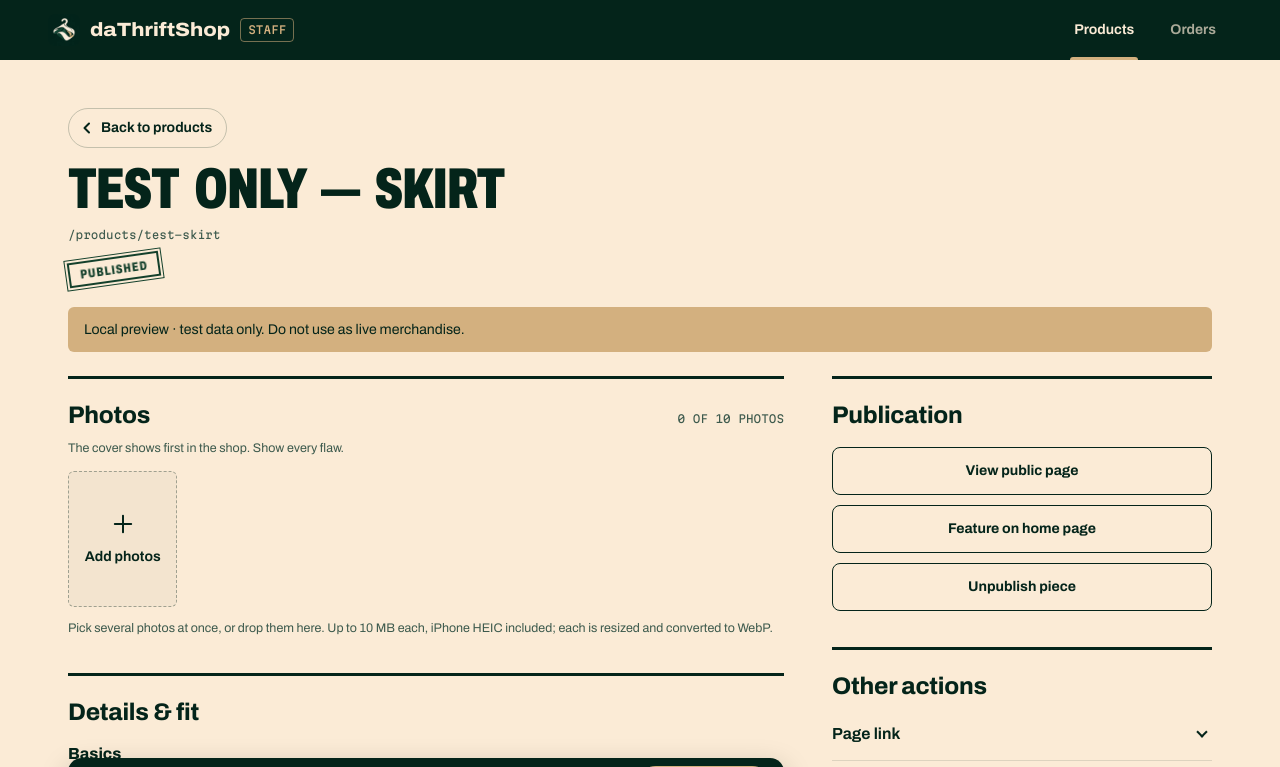
Test: features a published piece on the home page and removes it again
What coordinates should you click on to do the following:
click the button "Feature on home page"
I would click on:
 (1022, 529)
Its box is x1=832 y1=505 x2=1212 y2=553.
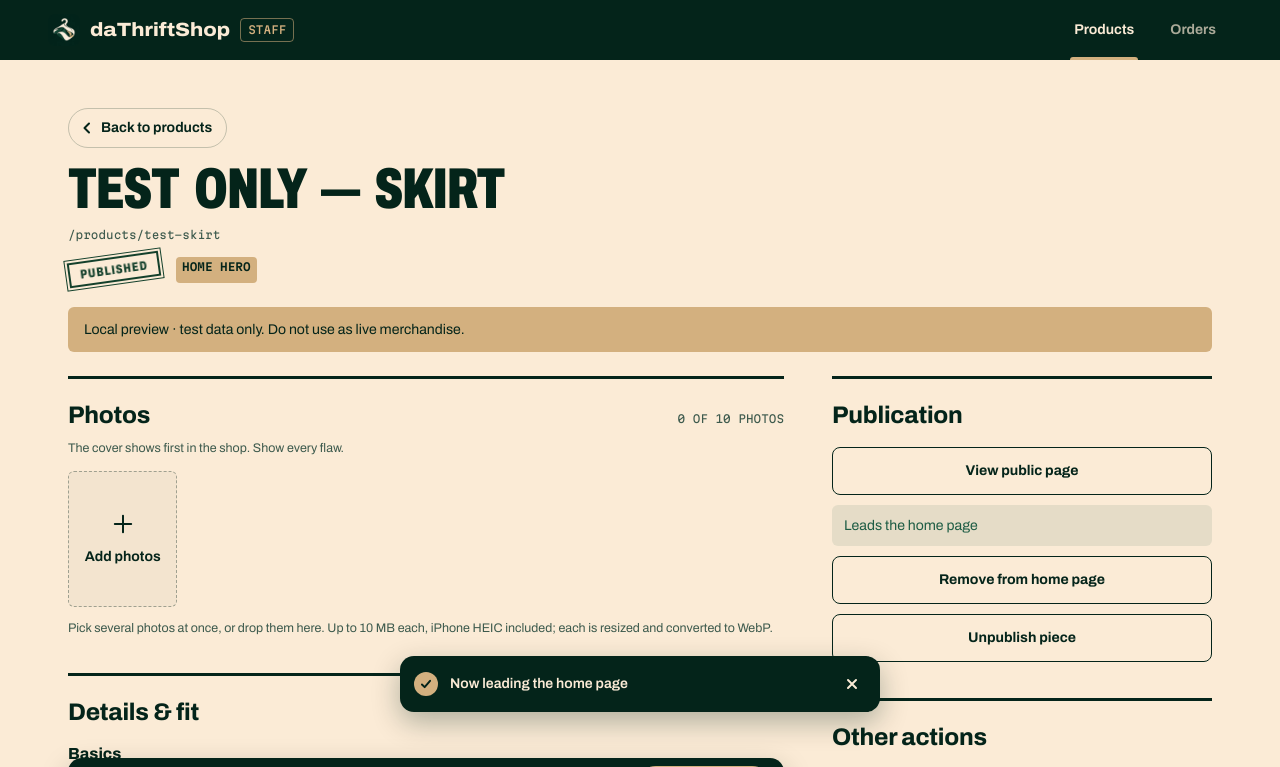
Now the text "Leads the home page" is shown, box x1=832 y1=505 x2=1212 y2=546
What coordinates should you click on to do the following:
click the button "Remove from home page"
I would click on:
 (1022, 580)
Its box is x1=832 y1=556 x2=1212 y2=604.
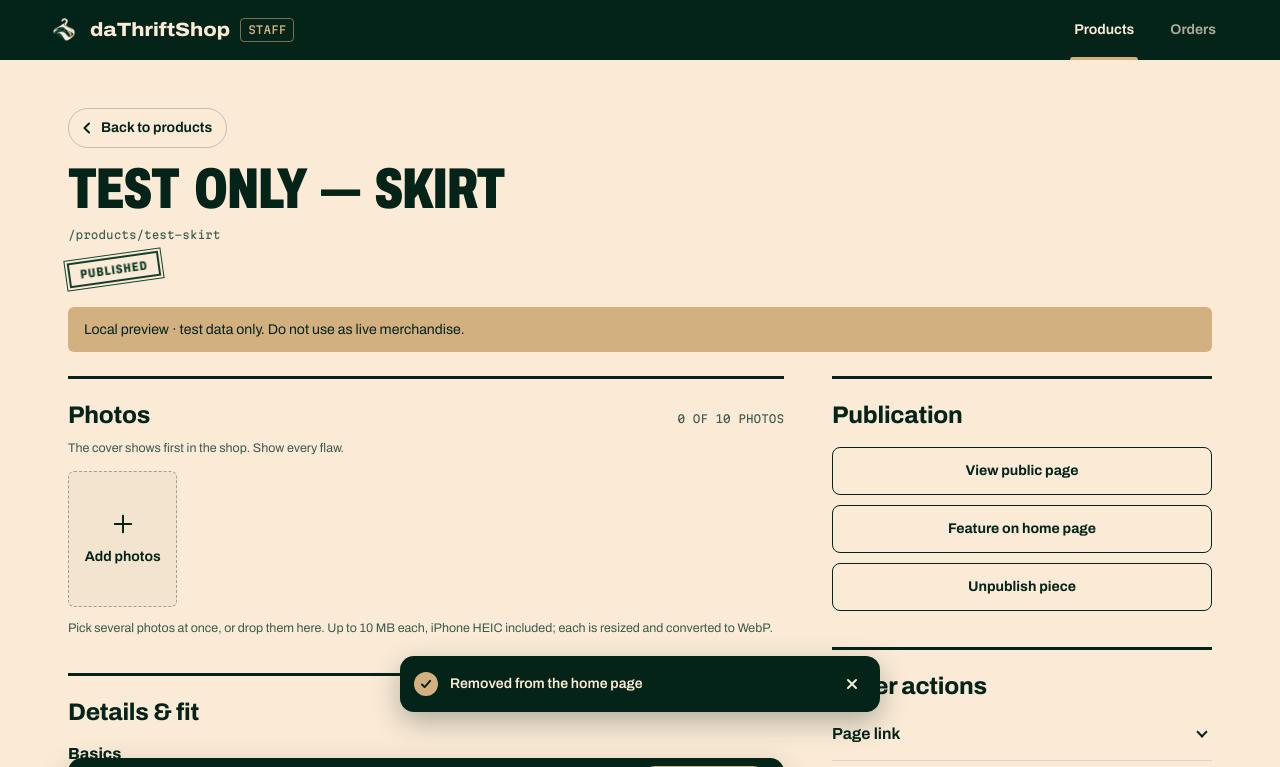
Now the button "Feature on home page" is shown, box x1=832 y1=505 x2=1212 y2=553
